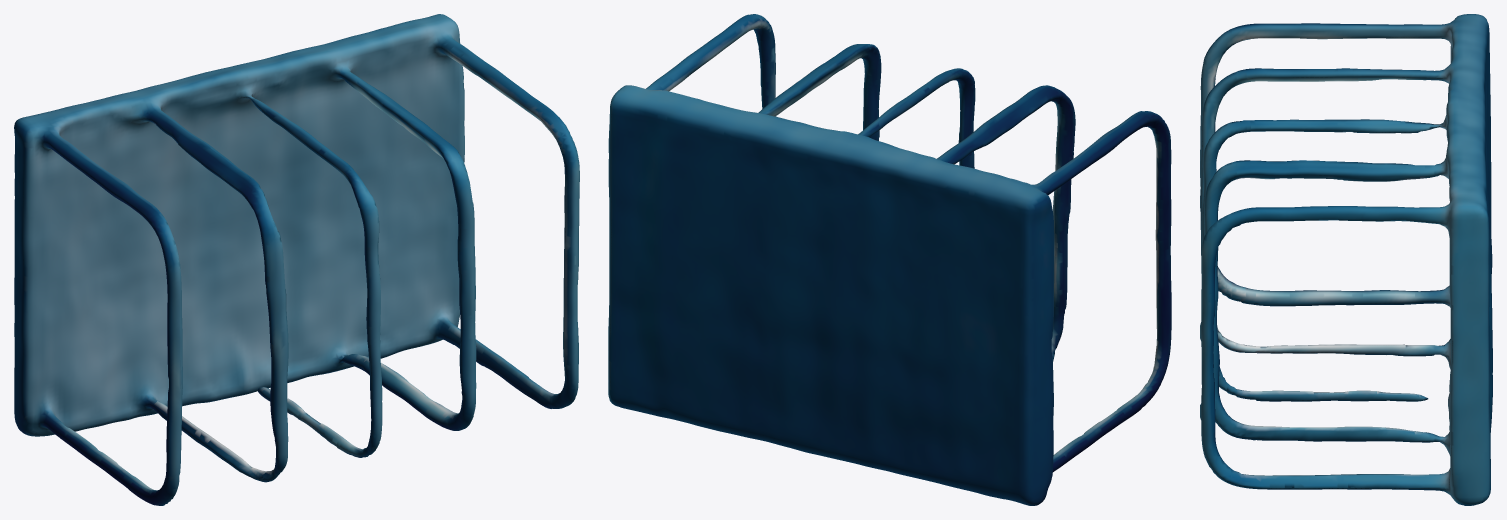
Rendered from sorter.glb.
3 renders of one model, left to right at view 1: azimuth 30°, elevation 25°; view 2: azimuth 150°, elevation 25°; view 3: azimuth 270°, elevation 25°, orthographic. The views are drawn at different scales.
Bounding box in the file's own units: 0.9993 × 0.7056 × 0.6052.
